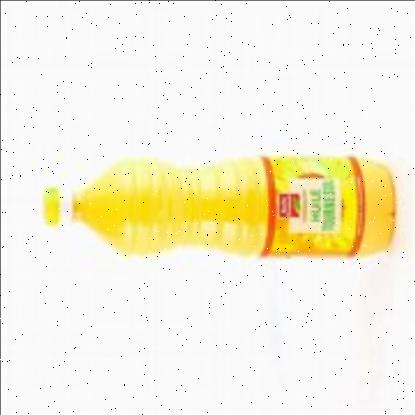Plastic Bottle: (40, 154, 394, 260)
